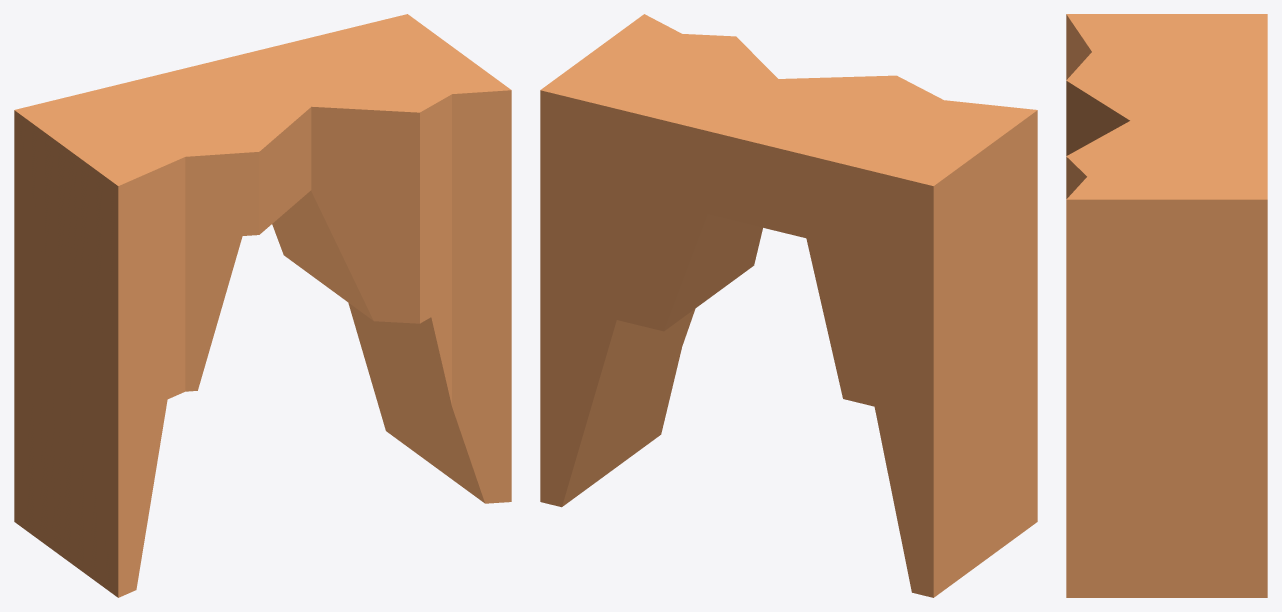
The model's file is cliffBrown_entrance.fbx.
3 views of the same model, side by side, from view 1: azimuth 30°, elevation 25°; view 2: azimuth 150°, elevation 25°; view 3: azimuth 270°, elevation 25° (orthographic). The views are drawn at different scales.
Visible parts, largest first — view 1: cliffBrown_entrance; view 2: cliffBrown_entrance; view 3: cliffBrown_entrance.
Boxes of the visible parts, x1,y1,x2,y2 form: cliffBrown_entrance: [14, 14, 511, 597]; cliffBrown_entrance: [540, 14, 1037, 597]; cliffBrown_entrance: [1066, 14, 1267, 597].
Size of the model in its own units: 10 by 10 by 4.58.
